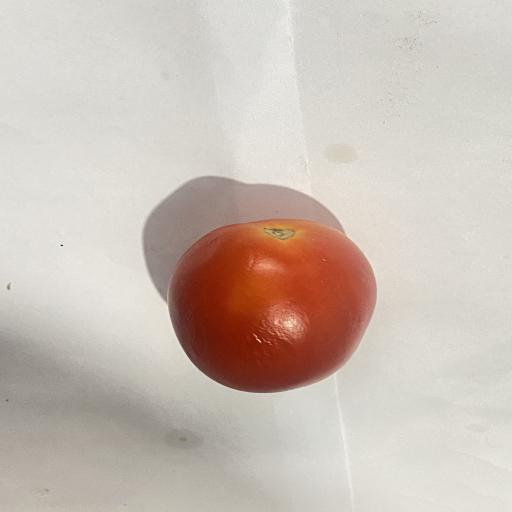overipe: (168, 219, 376, 393)
